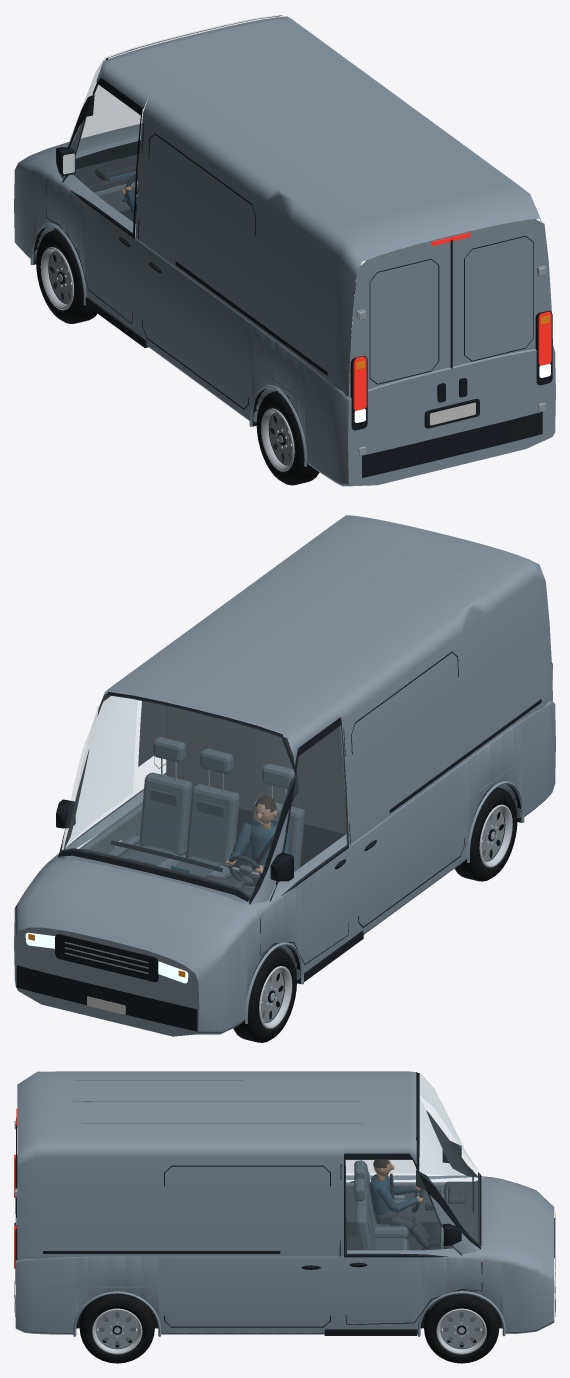
The model's file is van.glb.
The picture shows the model from 3 angles, top to bottom: view 1: azimuth 30°, elevation 25°; view 2: azimuth 150°, elevation 25°; view 3: azimuth 270°, elevation 25°; orthographic projection. The views are drawn at different scales.
Visible parts, largest first — view 1: body, trim, glass, cabin_interior, wheel_rl_rubber, wheel_fl_rubber, lights_red, wheel_rl_wheel_metal, wheel_fl_wheel_metal, plate; view 2: body, glass, cabin_interior, trim, wheel_fl_rubber, wheel_rl_rubber, wheel_rl_wheel_metal, wheel_fl_wheel_metal, lights_white; view 3: body, glass, cabin_interior, trim, wheel_rr_rubber, wheel_fr_rubber, wheel_rr_wheel_metal, wheel_fr_wheel_metal.
Boxes of the visible parts, x1,y1,x2,y2 form: body: [14, 16, 555, 486]; trim: [33, 15, 552, 477]; glass: [61, 15, 282, 234]; cabin_interior: [54, 153, 536, 278]; wheel_rl_rubber: [256, 390, 319, 485]; wheel_fl_rubber: [36, 229, 97, 323]; lights_red: [353, 232, 551, 410]; wheel_rl_wheel_metal: [261, 408, 294, 471]; wheel_fl_wheel_metal: [40, 247, 74, 310]; plate: [429, 402, 475, 425]; body: [14, 515, 555, 1036]; glass: [60, 694, 348, 902]; cabin_interior: [63, 693, 346, 953]; trim: [16, 651, 552, 1031]; wheel_fl_rubber: [233, 948, 296, 1042]; wheel_rl_rubber: [454, 786, 517, 881]; wheel_rl_wheel_metal: [479, 804, 512, 867]; wheel_fl_wheel_metal: [259, 966, 292, 1029]; lights_white: [25, 932, 188, 983]; body: [15, 1071, 554, 1336]; glass: [345, 1073, 479, 1256]; cabin_interior: [346, 1110, 482, 1310]; trim: [14, 1072, 555, 1335]; wheel_rr_rubber: [79, 1293, 154, 1363]; wheel_fr_rubber: [424, 1294, 499, 1363]; wheel_rr_wheel_metal: [92, 1308, 142, 1354]; wheel_fr_wheel_metal: [436, 1308, 486, 1354].
Bounding box in the file's own units: 2.17 × 2.54 × 5.62.
